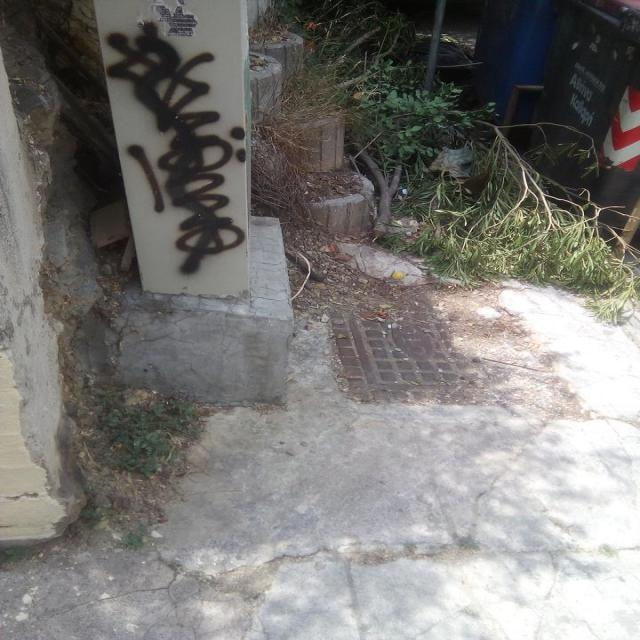nonspitting: (106, 20, 248, 278)
